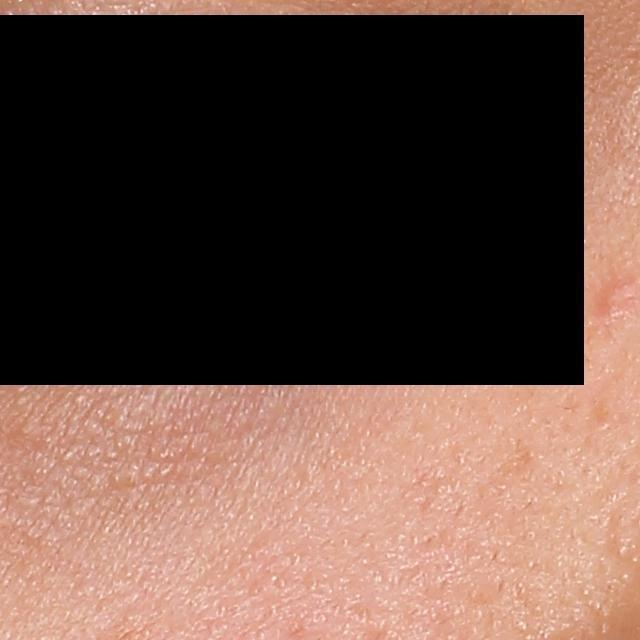papule: (599, 274, 638, 323)
